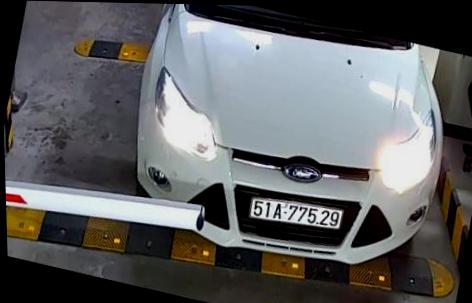License_Plate: (246, 188, 350, 249)
